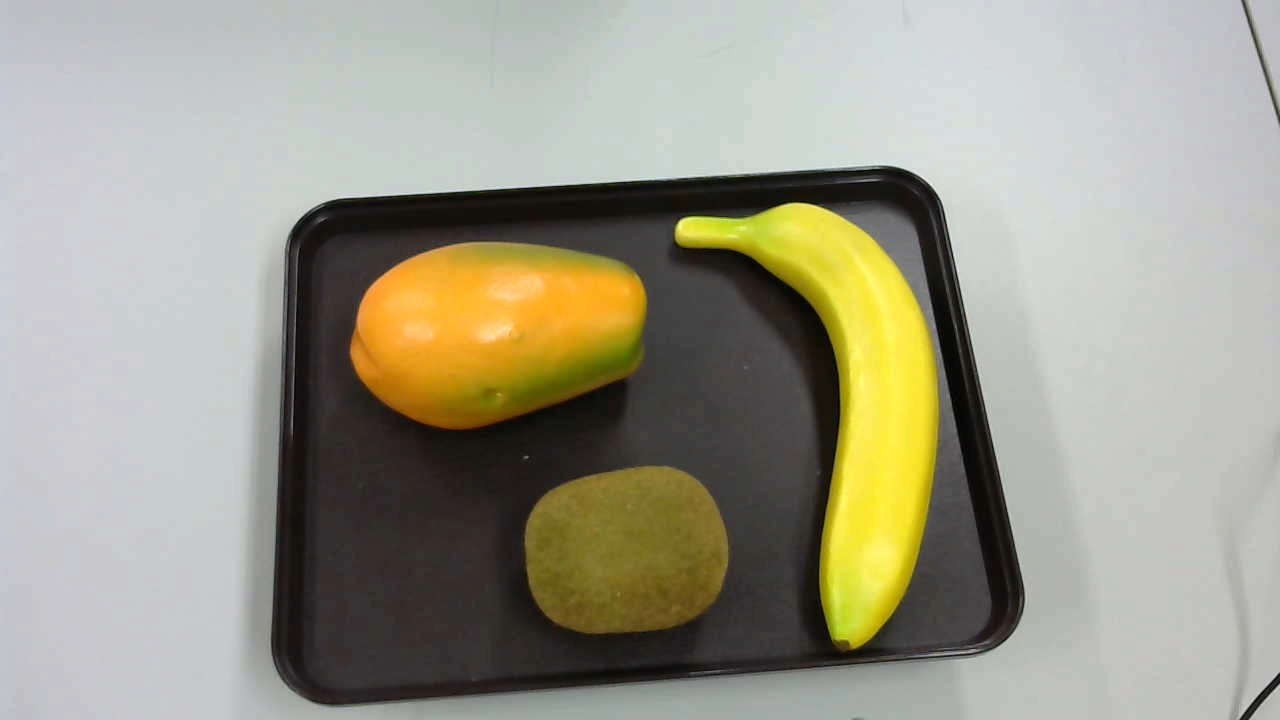banana: (670, 201, 937, 654)
kiwi fruit: (518, 461, 734, 636)
papya: (344, 233, 653, 434)
